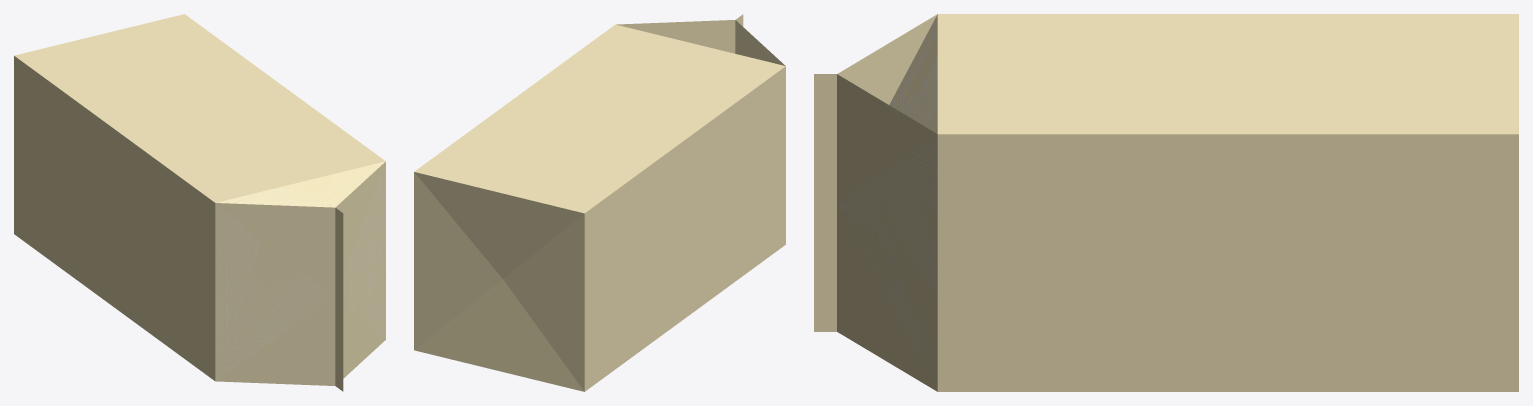
3 views of the same model, side by side, from view 1: azimuth 30°, elevation 25°; view 2: azimuth 150°, elevation 25°; view 3: azimuth 270°, elevation 25° (orthographic). The views are drawn at different scales.
Parts seen in each view (by area): view 1: cicipopo vanilla milk; view 2: cicipopo vanilla milk; view 3: cicipopo vanilla milk.
Part boxes in pixels (box(x1,y1,x2,y2)): cicipopo vanilla milk: box(14, 14, 385, 391); cicipopo vanilla milk: box(414, 14, 785, 391); cicipopo vanilla milk: box(814, 14, 1518, 391).
Bounding box in the file's own units: 5.75 × 5.75 × 14.25.
